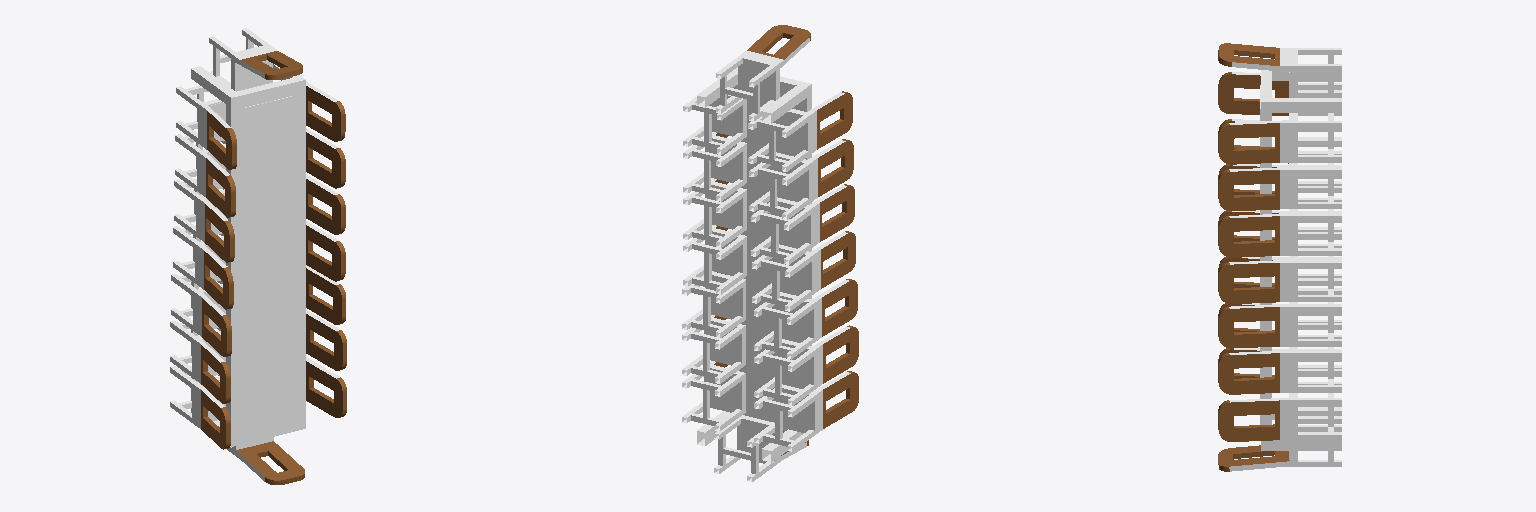
File: table_and_chair.obj
The picture shows the model from 3 angles: view 1: azimuth 30°, elevation 25°; view 2: azimuth 150°, elevation 25°; view 3: azimuth 270°, elevation 25°; orthographic projection.
Visible parts, largest first — view 1: Mesh8 Model, Mesh17 Model, Mesh9 Model, Mesh13 Model, Mesh10 Model, Mesh12 Model, Mesh14 Model, Mesh11 Model, Mesh15 Model, Mesh16 Model, Mesh6 Model, Mesh7 Model (+5 smaller); view 2: Mesh8 Model, Mesh17 Model, Mesh10 Model, Mesh9 Model, Mesh13 Model, Mesh14 Model, Mesh12 Model, Mesh15 Model, Mesh11 Model, Mesh7 Model, Mesh3 Model, Mesh2 Model (+5 smaller); view 3: Mesh5 Model, Mesh8 Model, Mesh3 Model, Mesh7 Model, Mesh6 Model, Mesh4 Model, Mesh2 Model, Mesh1 Model, Mesh17 Model, Mesh16 Model, Mesh9 Model, Mesh13 Model (+3 smaller).
Part boxes in pixels (x1,y1,x2,y2): Mesh8 Model: (191,64,305,446); Mesh17 Model: (209,28,302,91); Mesh9 Model: (176,86,236,169); Mesh13 Model: (171,274,231,356); Mesh10 Model: (175,134,235,217); Mesh12 Model: (173,225,233,309); Mesh14 Model: (170,320,230,403); Mesh11 Model: (174,179,234,262); Mesh15 Model: (170,366,230,449); Mesh16 Model: (227,437,304,484); Mesh6 Model: (306,309,346,370); Mesh7 Model: (306,357,346,417); Mesh8 Model: (697,67,811,462); Mesh17 Model: (716,25,810,121); Mesh10 Model: (749,139,853,219); Mesh9 Model: (748,91,852,171); Mesh13 Model: (754,279,857,359); Mesh14 Model: (754,325,858,405); Mesh12 Model: (752,231,855,311); Mesh15 Model: (754,371,858,451); Mesh11 Model: (751,184,854,264); Mesh7 Model: (682,361,745,431); Mesh3 Model: (683,178,746,247); Mesh2 Model: (683,132,746,201); Mesh5 Model: (1218,288,1341,348); Mesh8 Model: (1260,70,1341,450); Mesh3 Model: (1218,198,1341,257); Mesh7 Model: (1218,382,1341,441); Mesh6 Model: (1218,335,1341,394); Mesh4 Model: (1218,244,1341,303); Mesh2 Model: (1218,151,1341,210); Mesh1 Model: (1218,113,1341,164); Mesh17 Model: (1218,43,1341,97); Mesh16 Model: (1218,409,1341,471); Mesh9 Model: (1218,72,1341,131); Mesh13 Model: (1218,257,1341,315).
Size of the model in its own units: 1.12 by 3.64 by 0.9905.